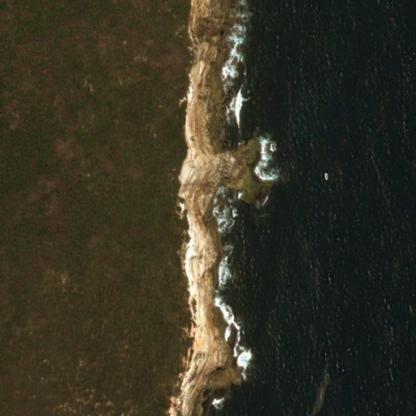ship: (323, 6, 328, 13)
